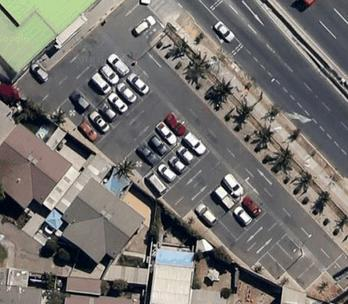parkingspot: (56, 52, 135, 129), (77, 71, 155, 147), (142, 131, 211, 199), (123, 112, 190, 180), (190, 172, 249, 231), (217, 193, 268, 243), (256, 232, 305, 282), (285, 251, 325, 292), (13, 61, 52, 101)
